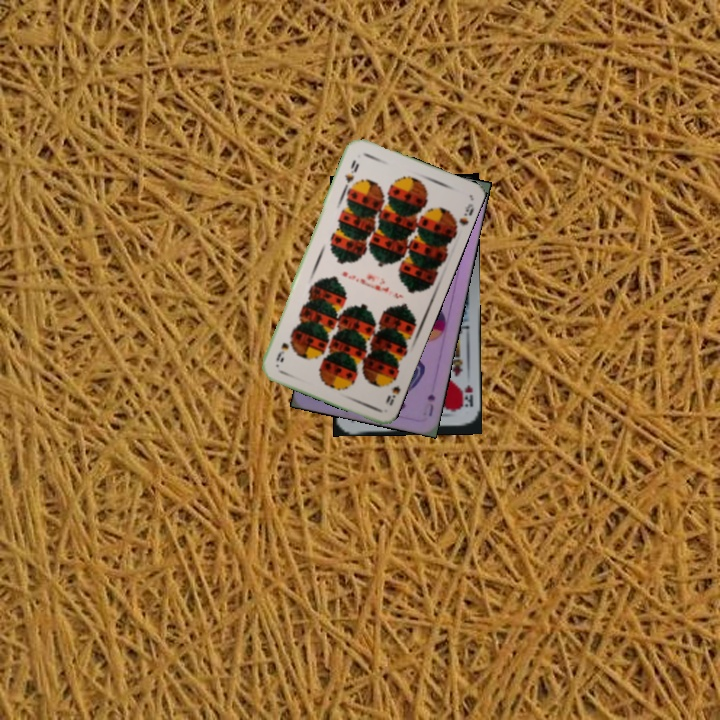HK: (461, 381, 475, 410)
S9: (381, 370, 403, 408), (340, 156, 362, 191)
SU: (423, 390, 438, 419)
